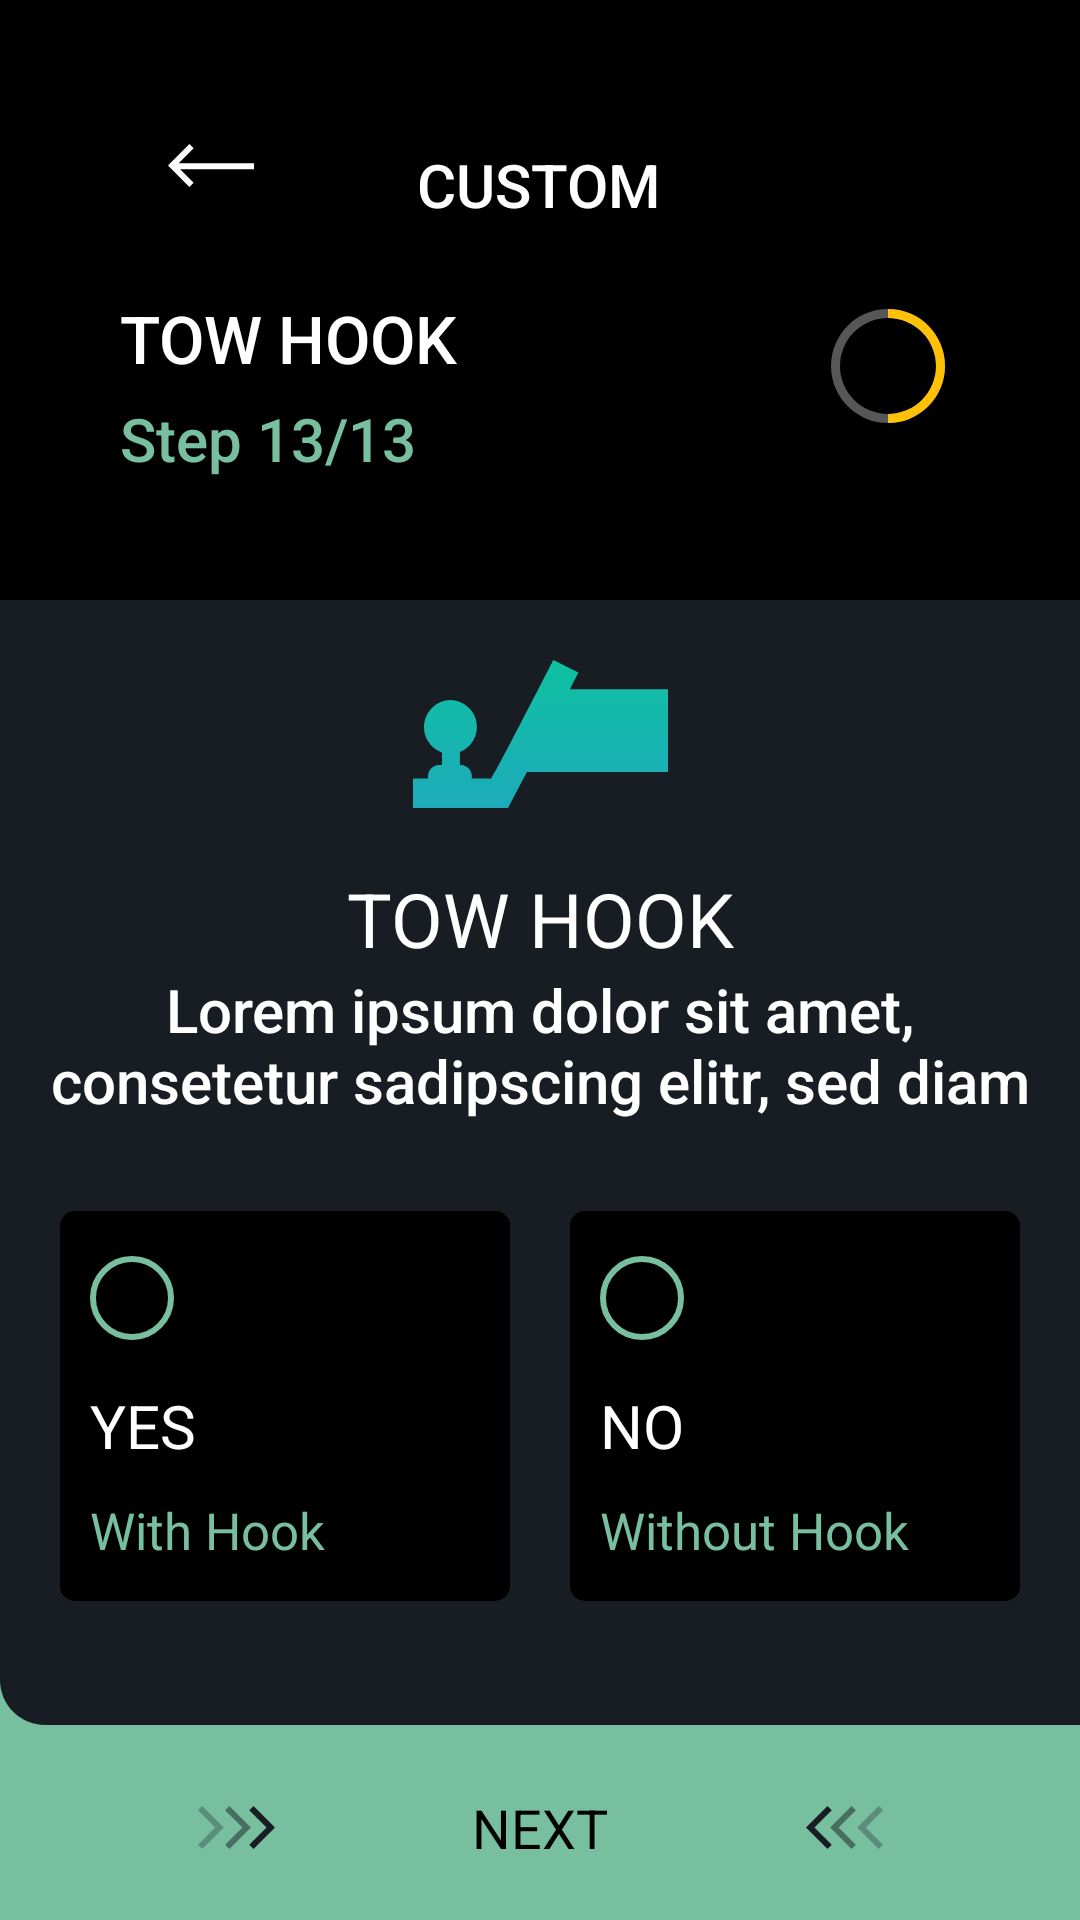

Locate icon controls on the screen. Image size 1080w x 1920h, boxes as (x1, y1, x2, y2).
arrow: (168, 144, 254, 187)
